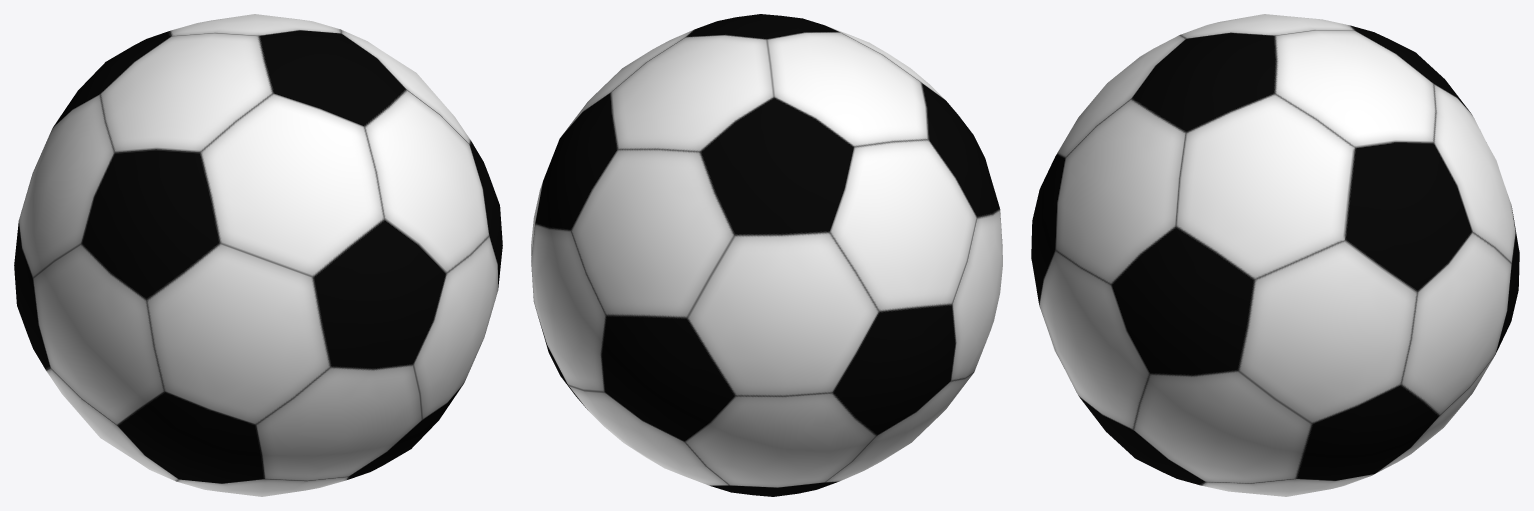
The model's file is ball_normal_hires 1.fbx.
3 renders of one model, left to right at view 1: azimuth 30°, elevation 25°; view 2: azimuth 150°, elevation 25°; view 3: azimuth 270°, elevation 25°, orthographic.
Parts seen in each view (by area): view 1: pSolid2; view 2: pSolid2; view 3: pSolid2.
Boxes of the visible parts, <box> form: pSolid2: <box>14,14,502,496</box>; pSolid2: <box>531,14,1002,496</box>; pSolid2: <box>1031,14,1519,496</box>.
Bounding box in the file's own units: 9.7 × 9.79 × 9.85.
Materials: 1 (1 with a texture image).
